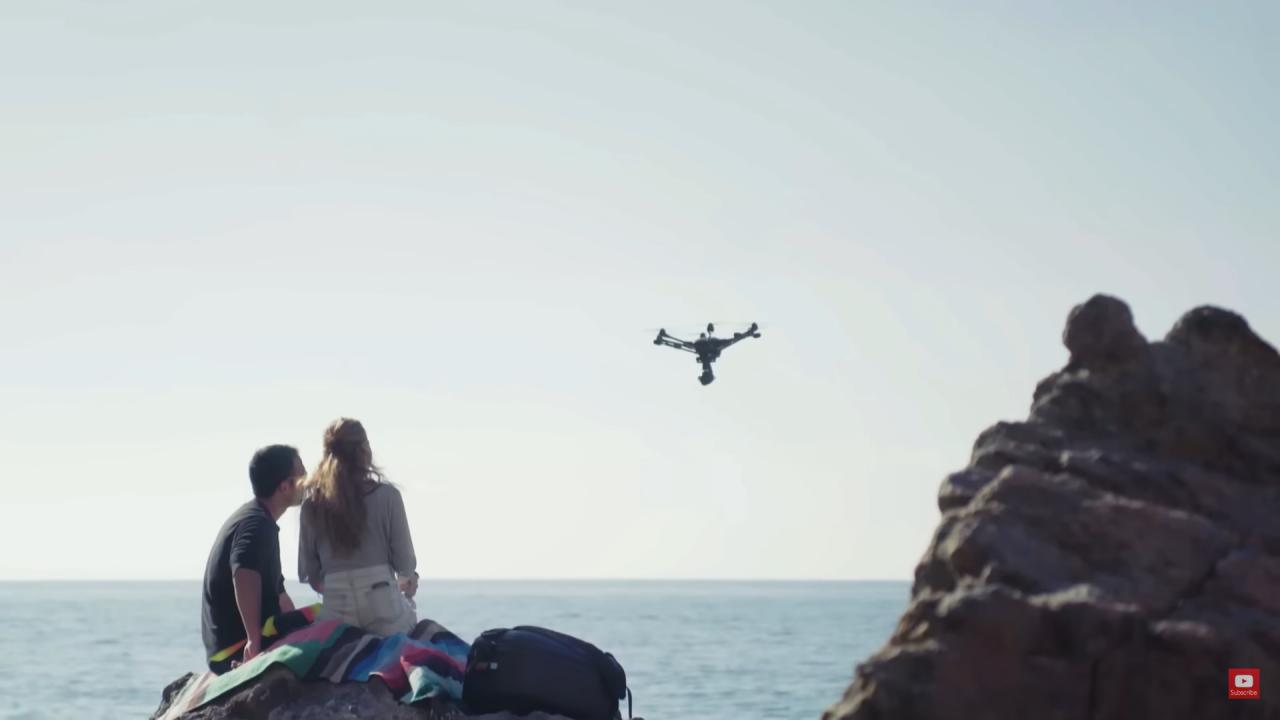Drone: (634, 308, 773, 394)
